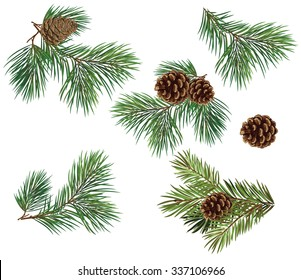Pc: (239, 111, 279, 149), (150, 71, 191, 106), (39, 17, 78, 45), (186, 74, 217, 106), (201, 192, 233, 220)
